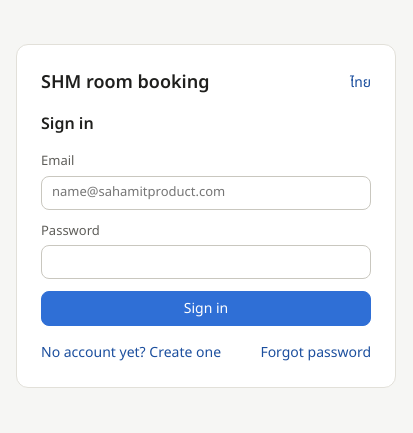
AuthScreen forgot password › emails a reset link to the address typed, which comes back to this page
The image size is (413, 433).
Click the button "Forgot password" at [316, 352], box [260,342,371,363]
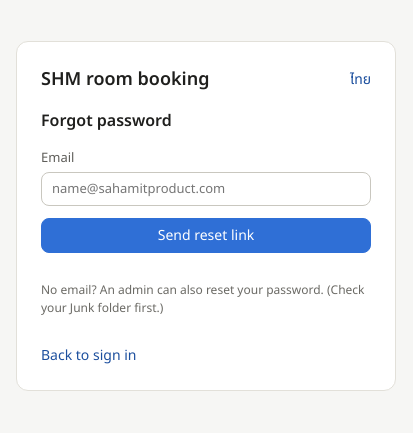
Type " ploy@sahamitproduct.com " into the field labelled "Email" at [206, 189], box [41,172,371,206]
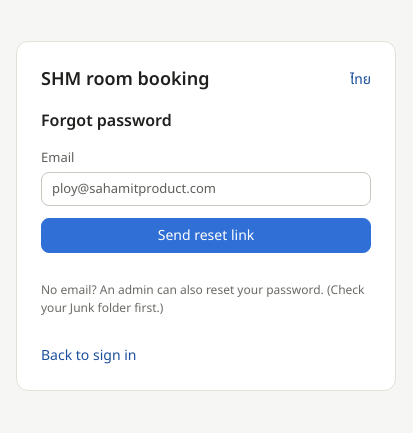
Click the button "Send reset link" at [206, 236], box [41,218,371,253]
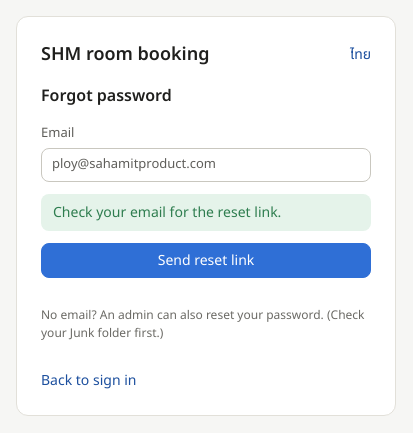
Now the text "Check your email for the reset link." is shown, box [41,194,371,231]
